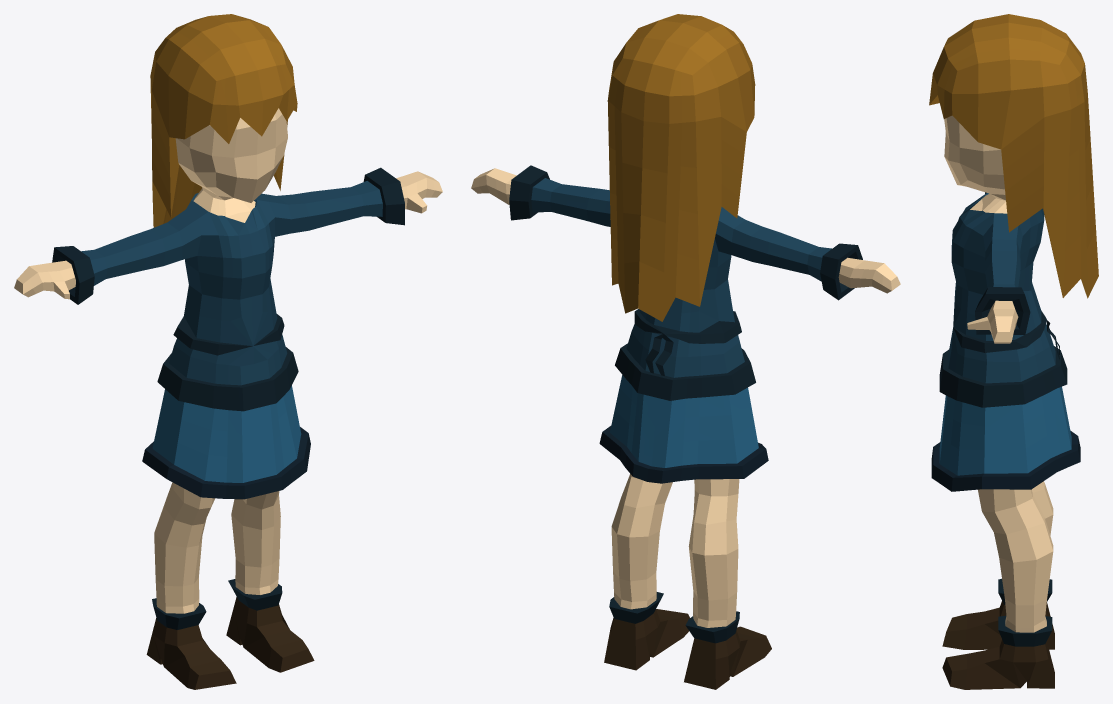
The model's file is Girl2.fbx.
3 views of the same model, side by side, from view 1: azimuth 30°, elevation 25°; view 2: azimuth 150°, elevation 25°; view 3: azimuth 270°, elevation 25° (orthographic).
Parts seen in each view (by area): view 1: Cube.003; view 2: Cube.003; view 3: Cube.003.
Boxes of the visible parts, x1,y1,x2,y2 form: Cube.003: [14, 14, 442, 689]; Cube.003: [471, 14, 900, 689]; Cube.003: [929, 14, 1098, 689].
Bounding box in the file's own units: 23466 × 33901 × 8172.
